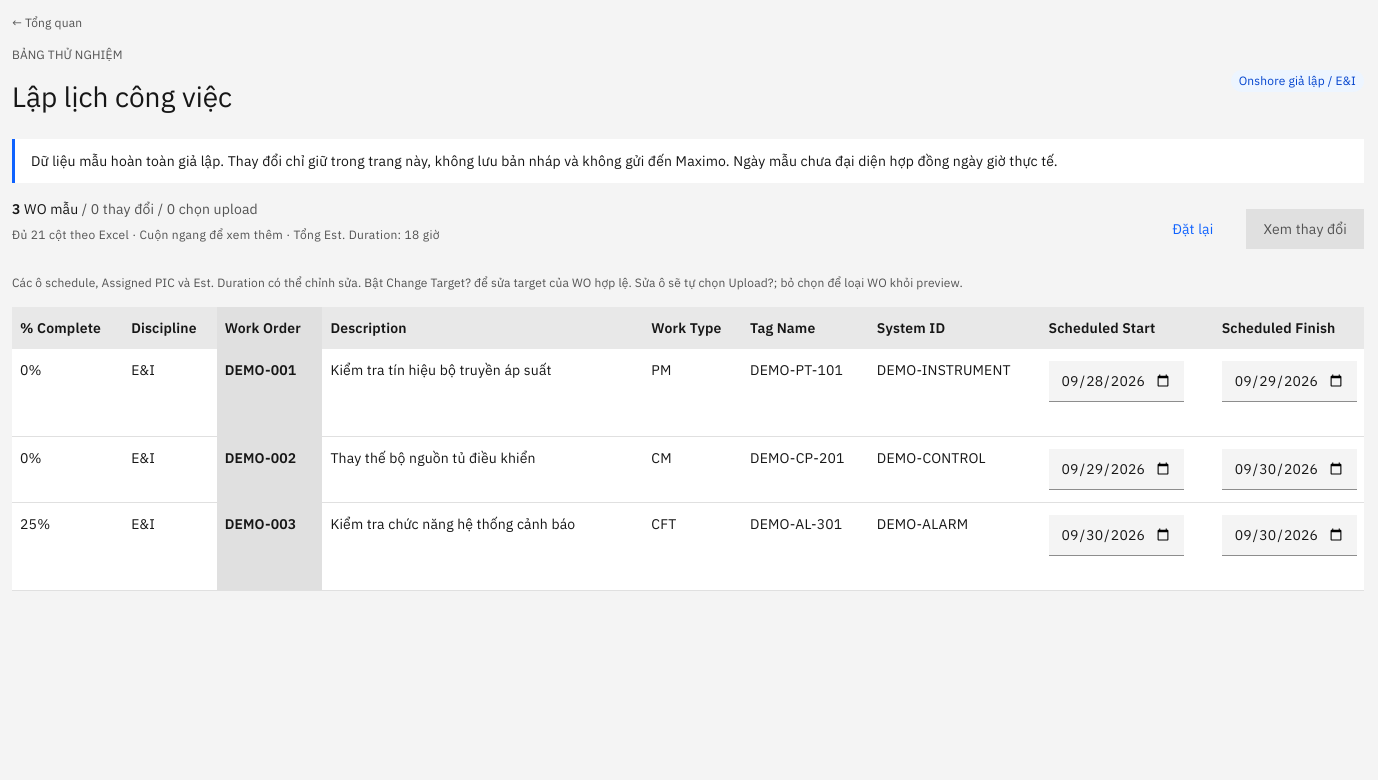
Test case: synthetic scheduling preview › blocks a finish earlier than start
Type "2026-09-01" into the date field named "DEMO-001 Scheduled Finish" at (1289, 382), box [1222, 361, 1357, 402]
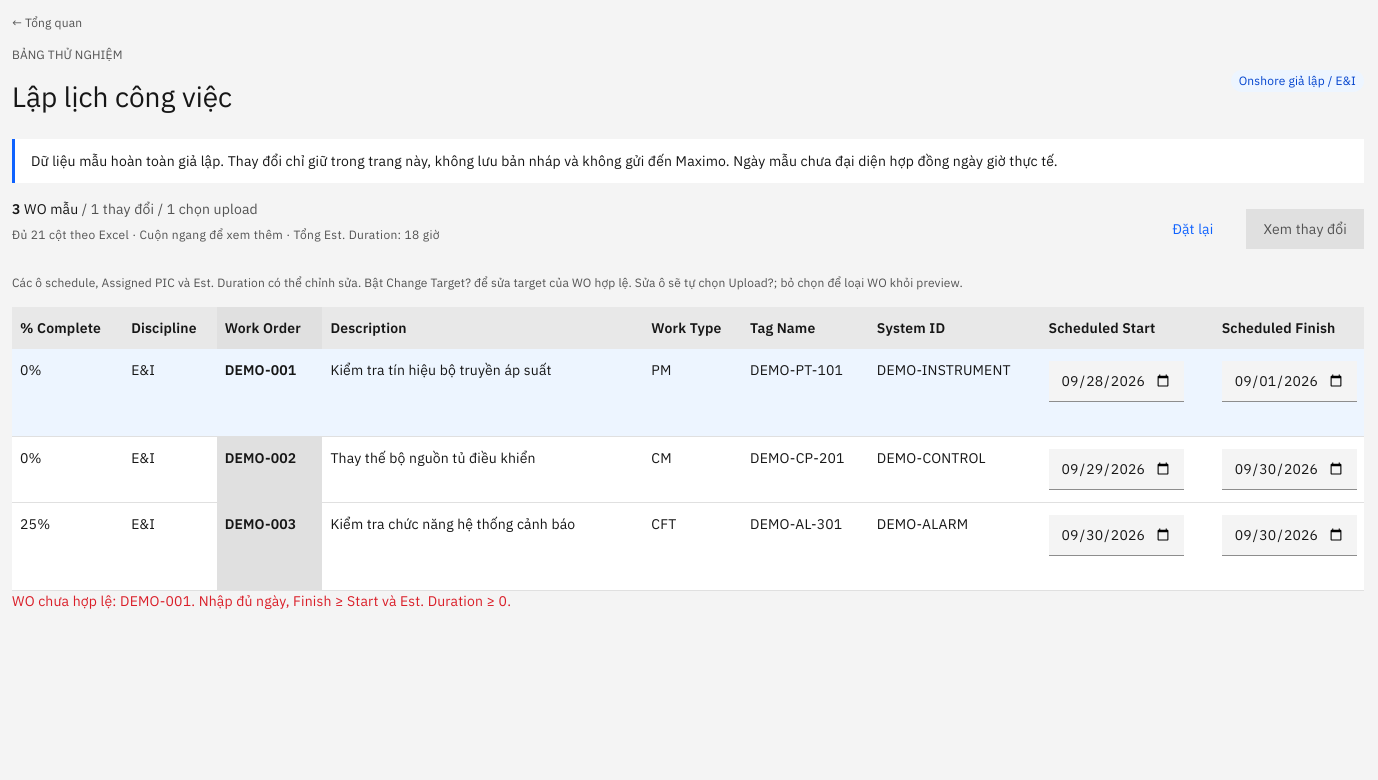
Expected: the button "Xem thay đổi" is disabled, [1246, 209, 1364, 249]
Expected: the message "WO chưa hợp lệ: DEMO-001. Nhập đủ ngày, Finish ≥ Start và Est. Duration ≥ 0." is shown, [12, 592, 511, 610]
